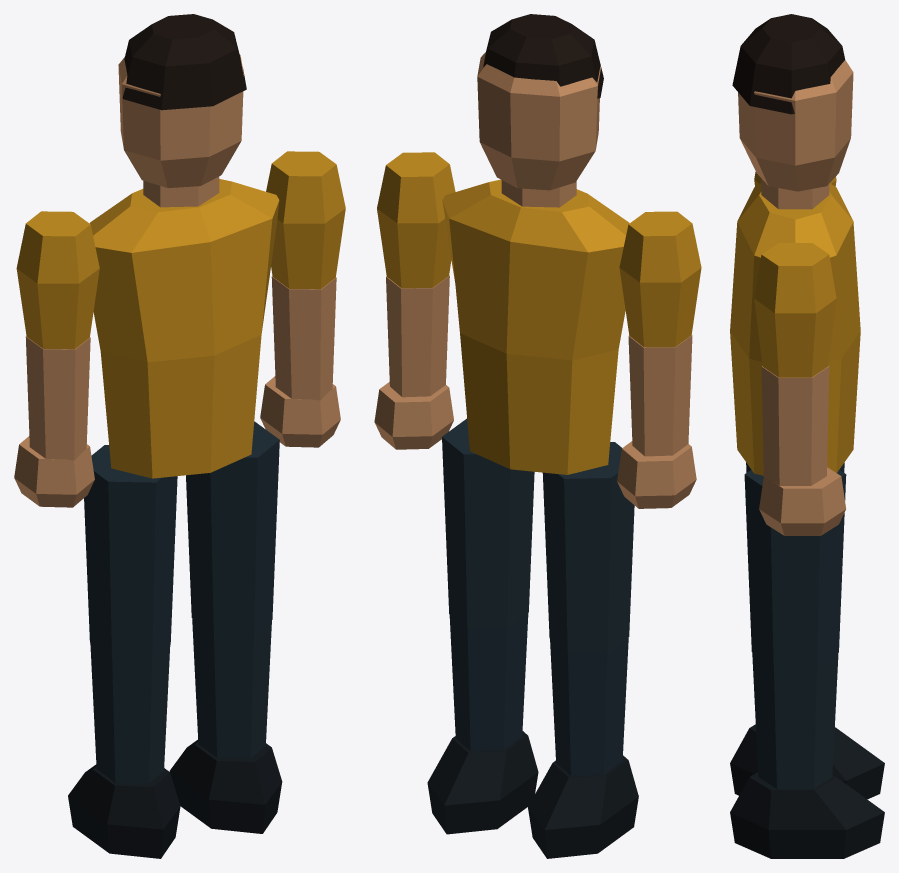
File: pilot.glb
3 renders of one model, left to right at view 1: azimuth 30°, elevation 25°; view 2: azimuth 150°, elevation 25°; view 3: azimuth 270°, elevation 25°, orthographic.
Parts seen in each view (by area): view 1: BodyMesh, LeftShinMesh, RightShinMesh, LeftThighMesh, RightThighMesh, LeftForearmMesh, RightForearmMesh, LeftUpperArmMesh, RightUpperArmMesh; view 2: BodyMesh, LeftShinMesh, RightShinMesh, LeftThighMesh, RightThighMesh, LeftForearmMesh, RightForearmMesh, LeftUpperArmMesh, RightUpperArmMesh; view 3: BodyMesh, RightShinMesh, RightThighMesh, RightForearmMesh, RightUpperArmMesh, LeftShinMesh.
Boxes of the visible parts, box(x1,y1,x2,y2) form: BodyMesh: box(89, 14, 279, 478); LeftShinMesh: box(68, 643, 180, 858); RightShinMesh: box(169, 618, 282, 833); LeftThighMesh: box(84, 445, 177, 659); RightThighMesh: box(186, 421, 279, 634); LeftForearmMesh: box(14, 336, 94, 507); RightForearmMesh: box(260, 276, 340, 447); LeftUpperArmMesh: box(16, 211, 99, 349); RightUpperArmMesh: box(266, 151, 345, 289); BodyMesh: box(442, 14, 629, 474); LeftShinMesh: box(528, 637, 638, 858); RightShinMesh: box(427, 613, 538, 834); LeftThighMesh: box(542, 442, 634, 653); RightThighMesh: box(442, 418, 534, 628); LeftForearmMesh: box(617, 335, 696, 508); RightForearmMesh: box(374, 275, 453, 449); LeftUpperArmMesh: box(619, 211, 701, 347); RightUpperArmMesh: box(377, 152, 455, 288); BodyMesh: box(730, 14, 860, 475); RightShinMesh: box(730, 652, 884, 858); RightThighMesh: box(744, 470, 846, 666); RightForearmMesh: box(759, 366, 845, 535); RightUpperArmMesh: box(754, 243, 836, 377); LeftShinMesh: box(730, 724, 884, 799).
Size of the model in its own units: 0.7272 by 1.8 by 0.32.
